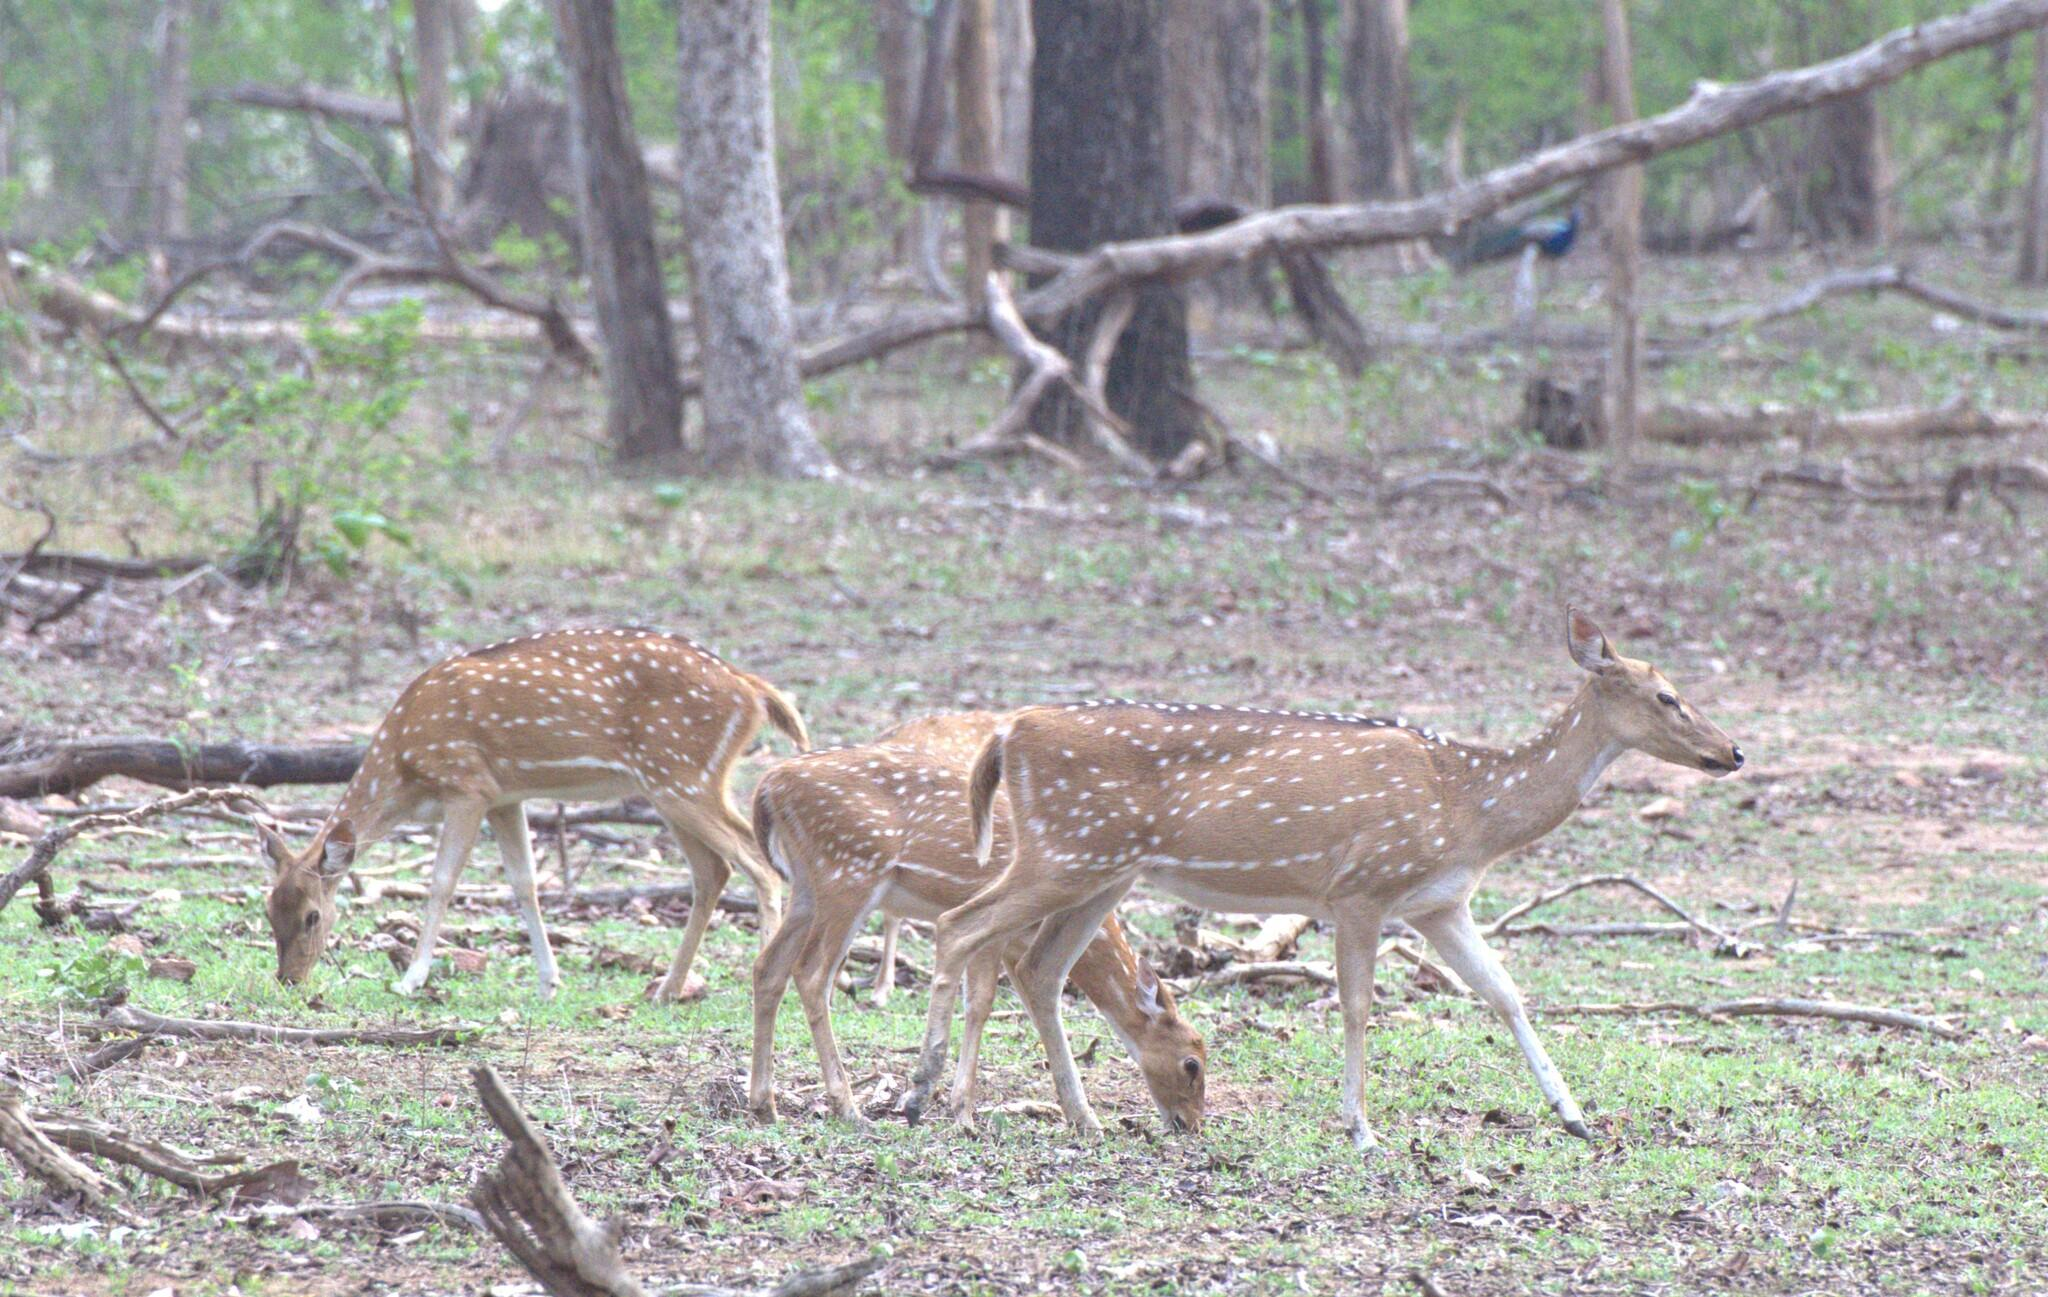Deer: (906, 612, 1742, 1146), (269, 627, 809, 1000), (749, 743, 993, 1116)
